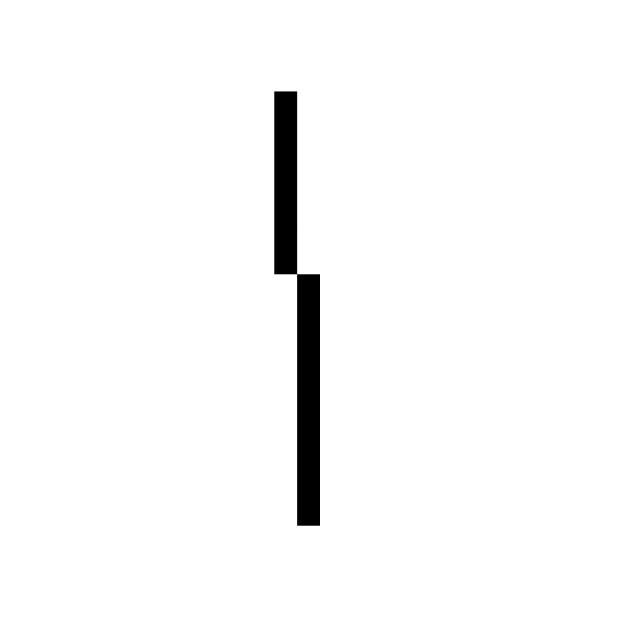1 -one-: (238, 57, 344, 548)
